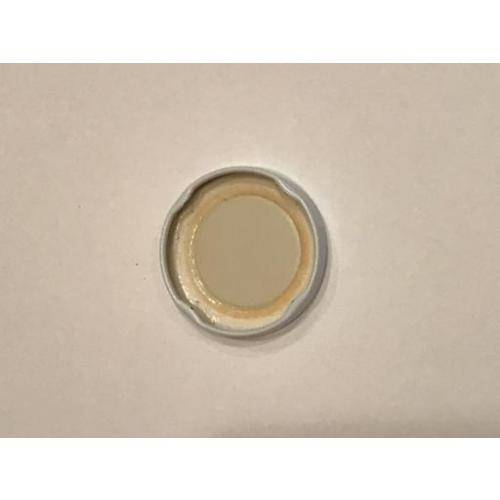metal: (160, 166, 329, 341)
